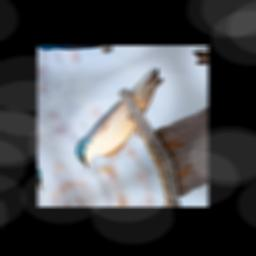Swallow: (59, 64, 182, 172)
